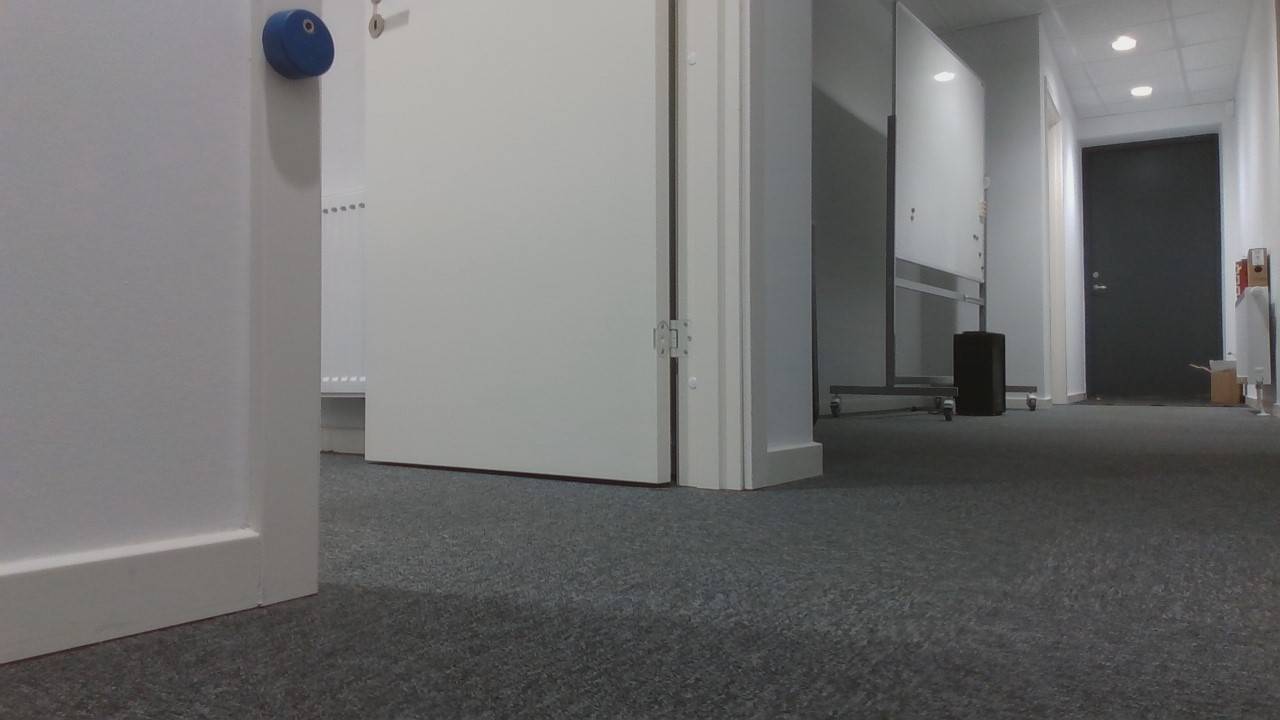alfa: (259, 7, 335, 81)
